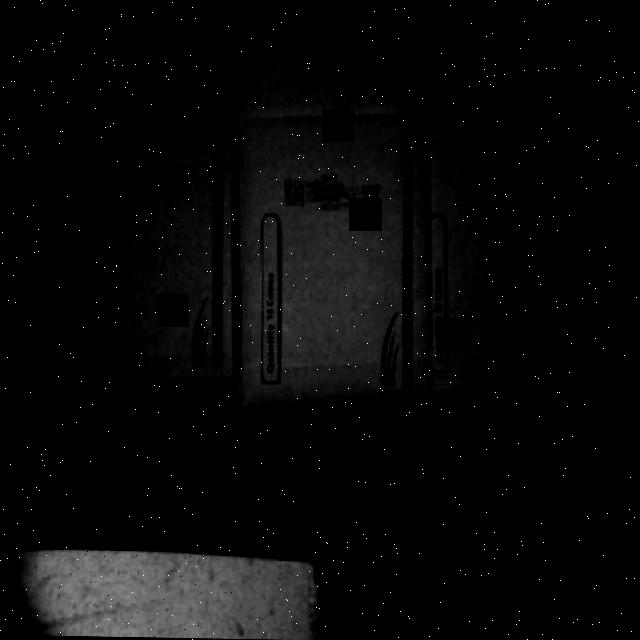box: (234, 0, 439, 405), (44, 3, 246, 386), (437, 2, 609, 393)
